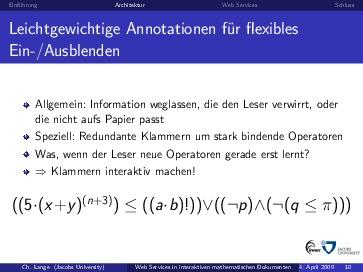paragraph: (9, 86, 360, 230)
title: (7, 16, 304, 62)
